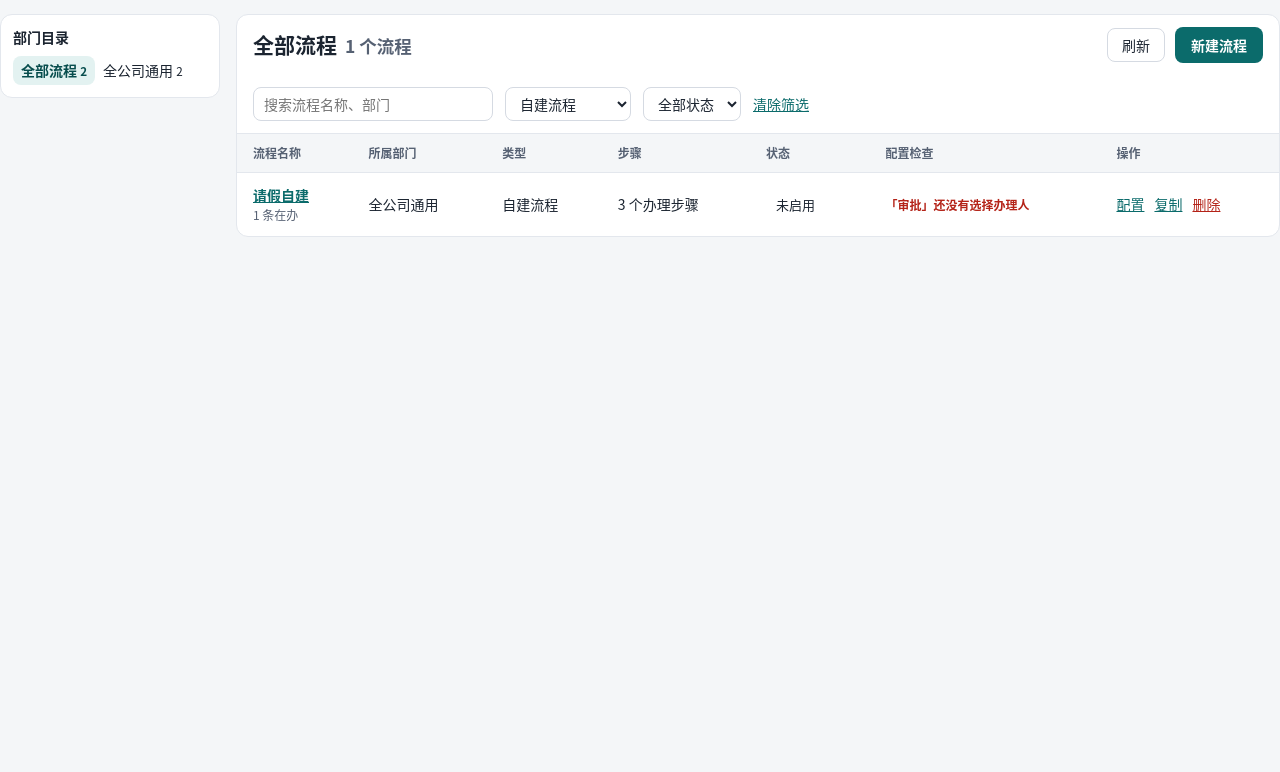
Test: 流程目录 › 新建流程：填名称后创建并进入设计器
Check: the button "请假自建" is shown, box [253,185,309,206]
Click the button "新建流程".
click(1219, 45)  # box [1175,27,1263,63]
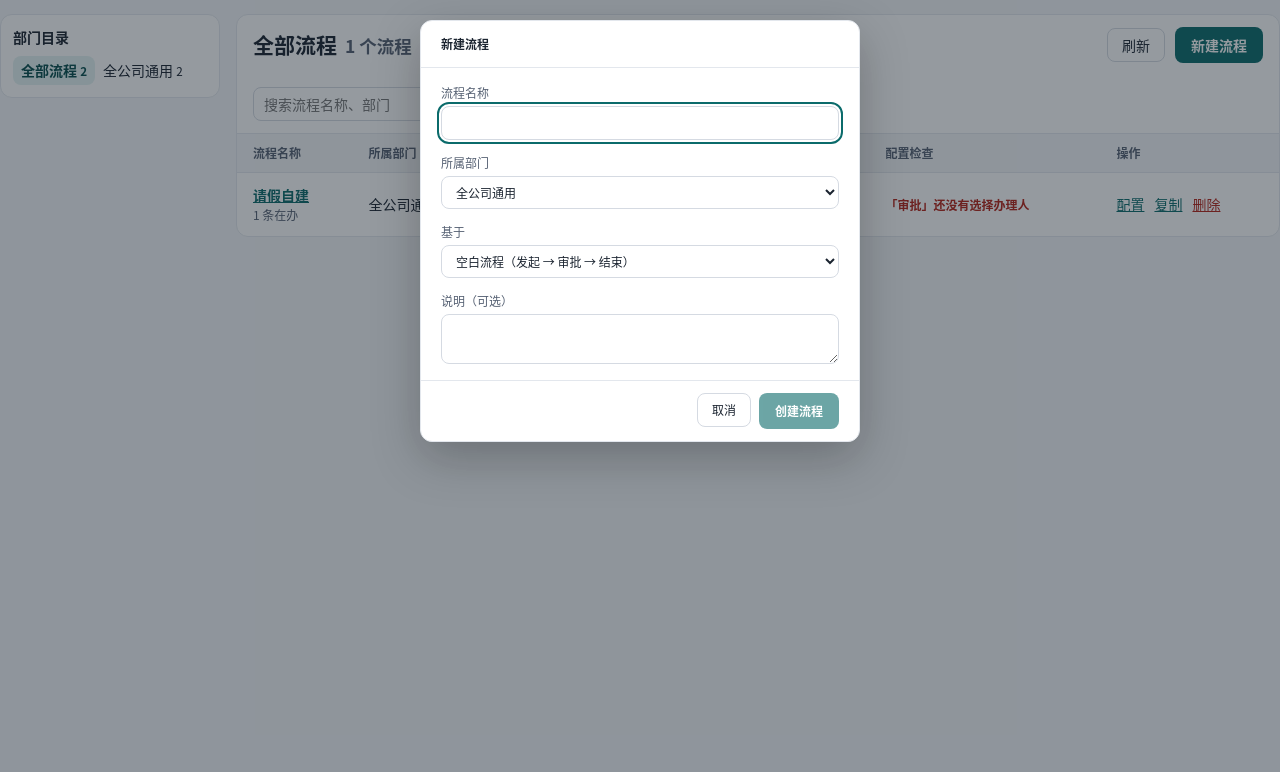
Type "外出申请" into the field labelled "流程名称".
click(640, 123); type("外出申请")  # box [441,106,839,140]
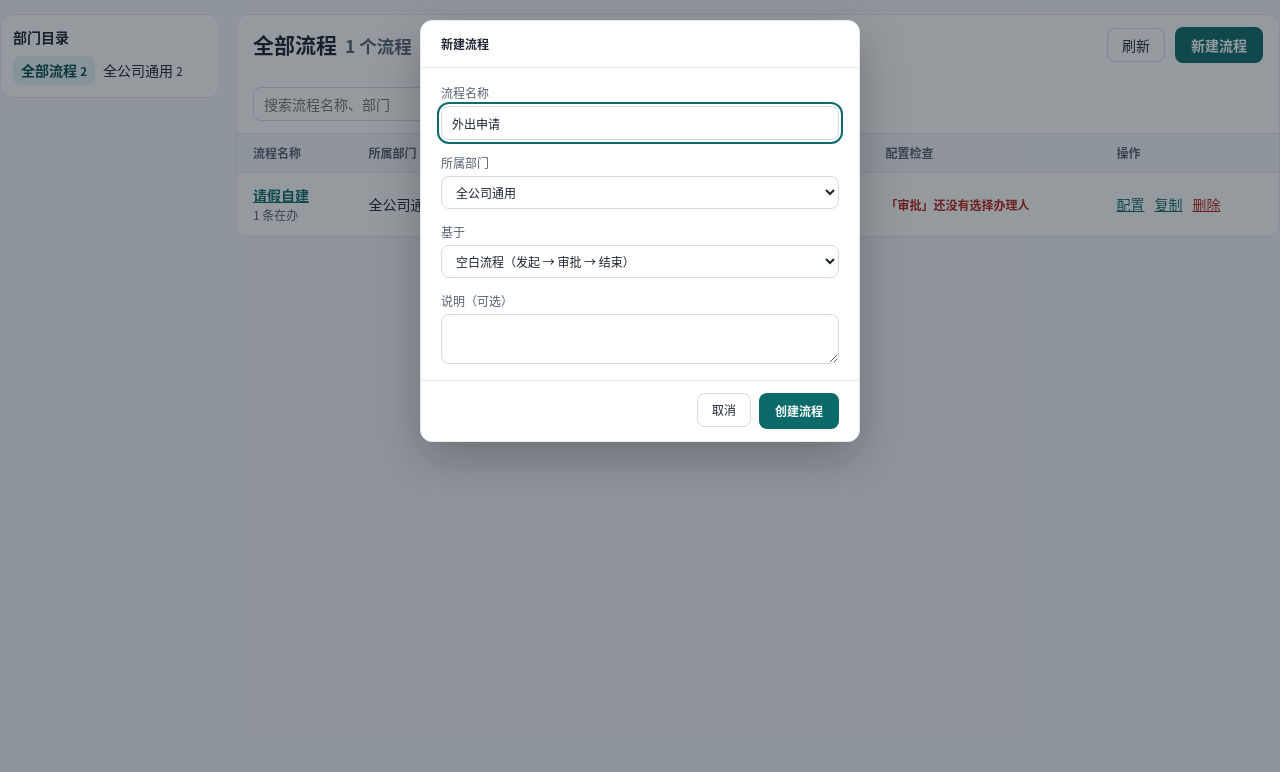
Click the button "创建流程".
click(799, 411)  # box [759,393,839,429]
(page scrolled)
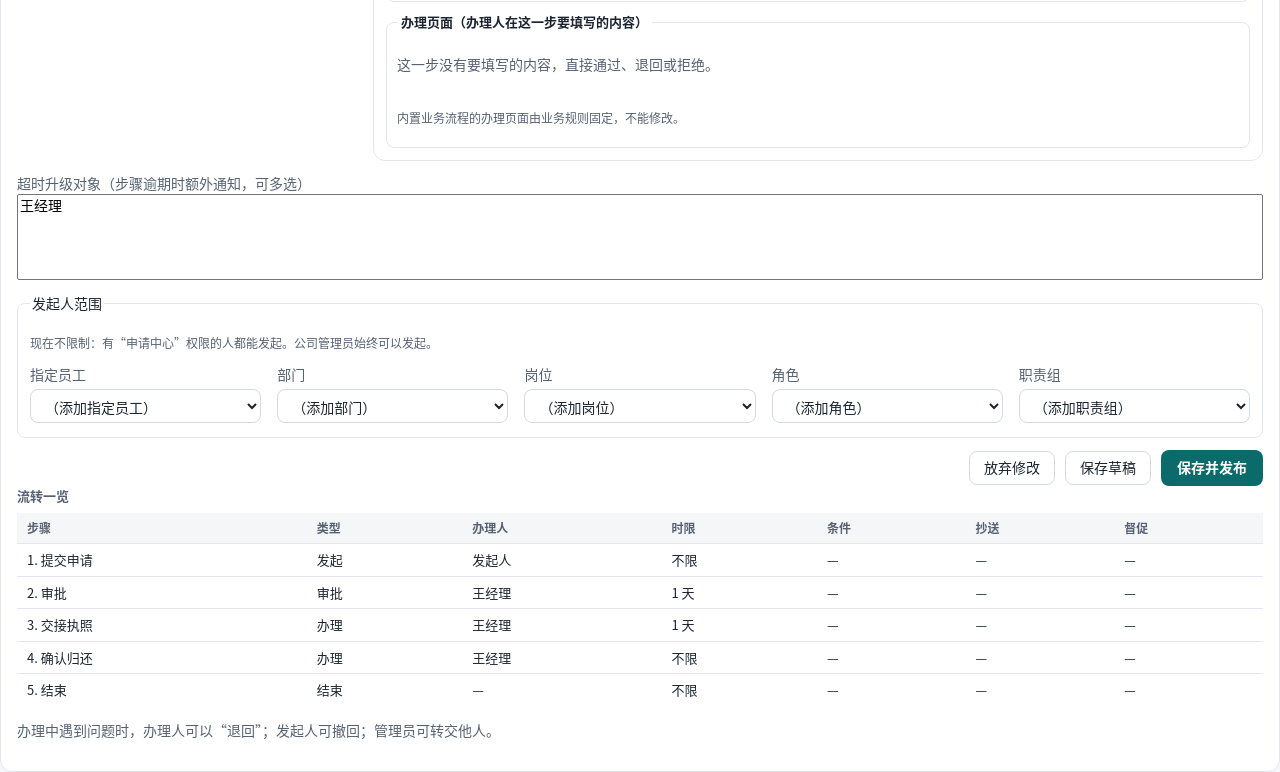
Check: the heading "流转一览" is shown, box [17,486,69,505]
